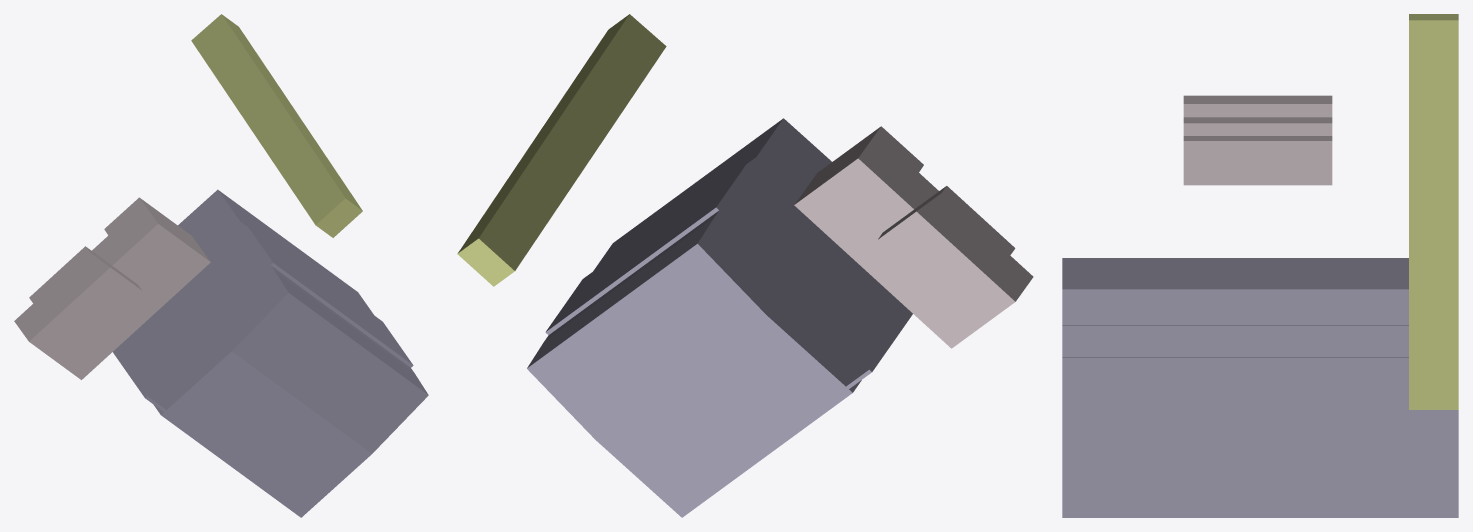
3 views of the same model, side by side, from view 1: azimuth 30°, elevation 25°; view 2: azimuth 150°, elevation 25°; view 3: azimuth 270°, elevation 25° (orthographic). The views are drawn at different scales.
Visible parts, largest first — view 1: 0_1_0_0_3_3_0; view 2: 0_1_0_0_3_3_0; view 3: 0_1_0_0_3_3_0.
Part boxes in pixels (x1,y1,x2,y2): 0_1_0_0_3_3_0: (14, 14, 428, 517); 0_1_0_0_3_3_0: (457, 14, 1033, 517); 0_1_0_0_3_3_0: (1062, 14, 1458, 517).
Size of the model in its own units: 74.27 by 72.91 by 48.
